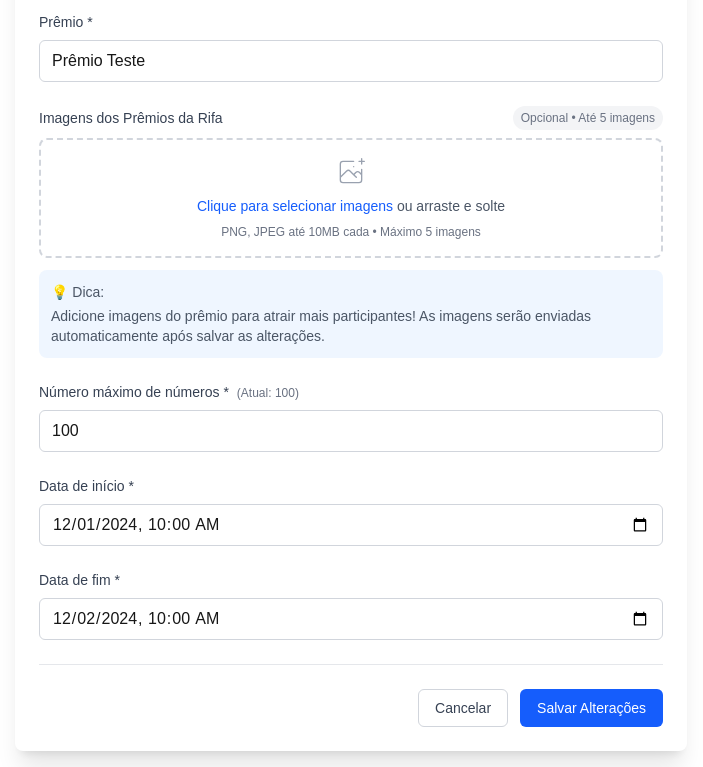
Test: RaffleEditModal › deve mostrar loading durante atualização
(page scrolled)
Click the button "Salvar Alterações": (592,708) [520,689,663,727]
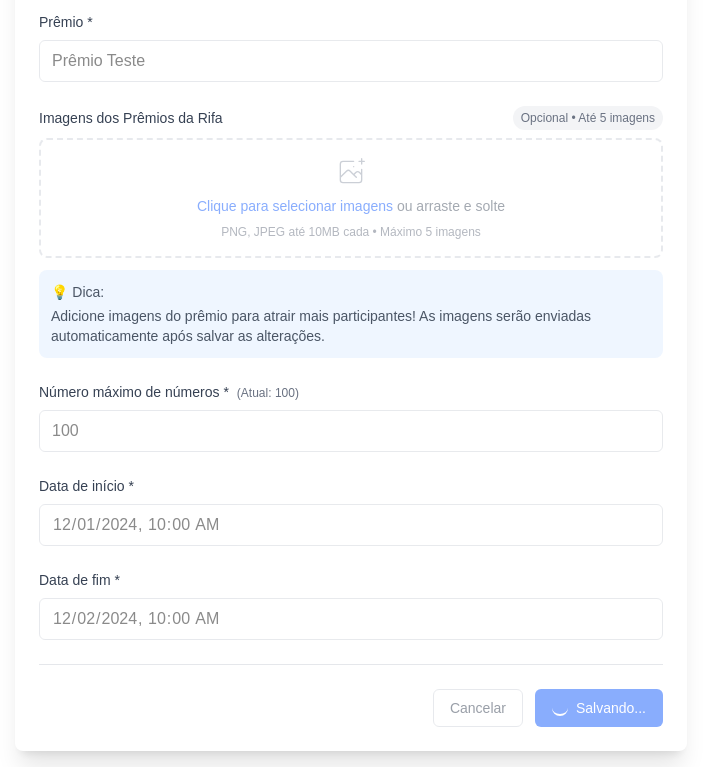
Result: the text "Salvando..." is shown at [552,698,646,718]
Result: the button named "Salvar Alterações" is disabled at [535,689,663,727]
